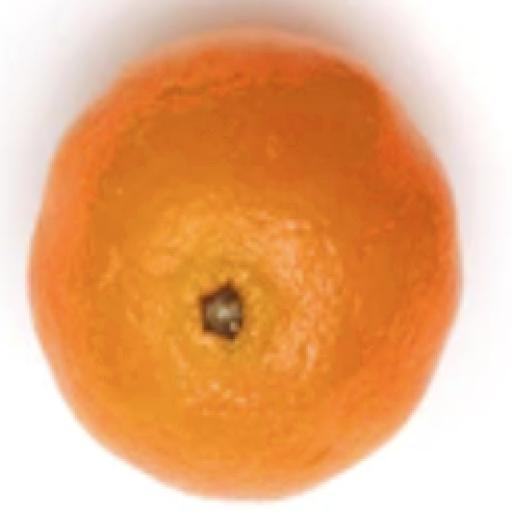orange: (30, 34, 459, 497)
